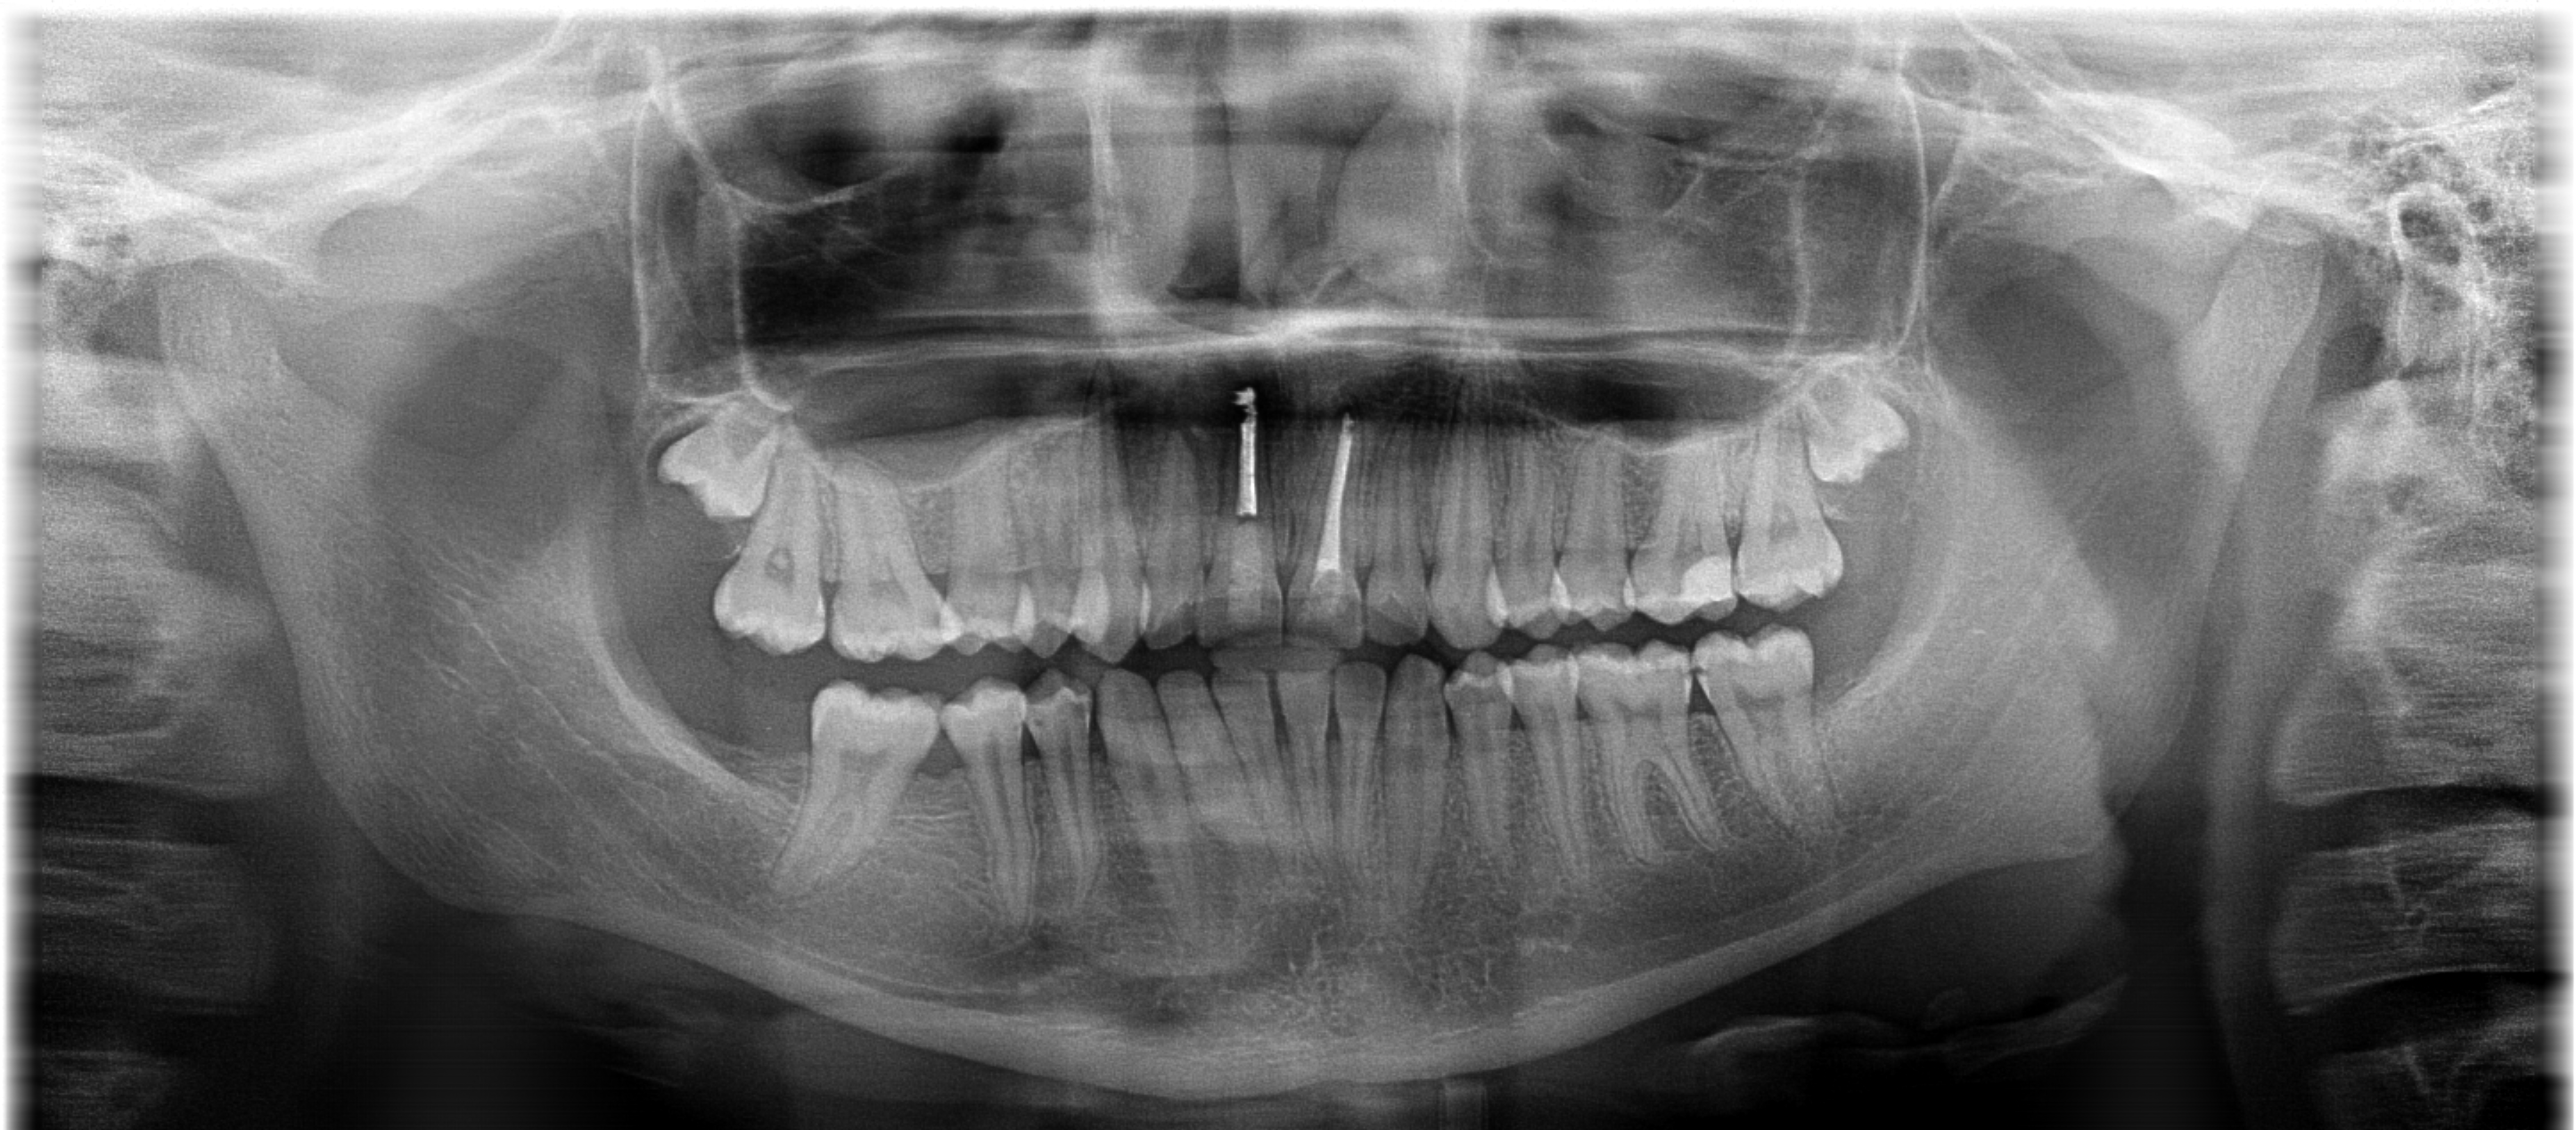caries: (1677, 631, 1850, 746)
cordal: (639, 353, 810, 539), (1774, 337, 1943, 506)
tratamiento_conducto: (1194, 363, 1295, 649), (1286, 374, 1380, 657)
